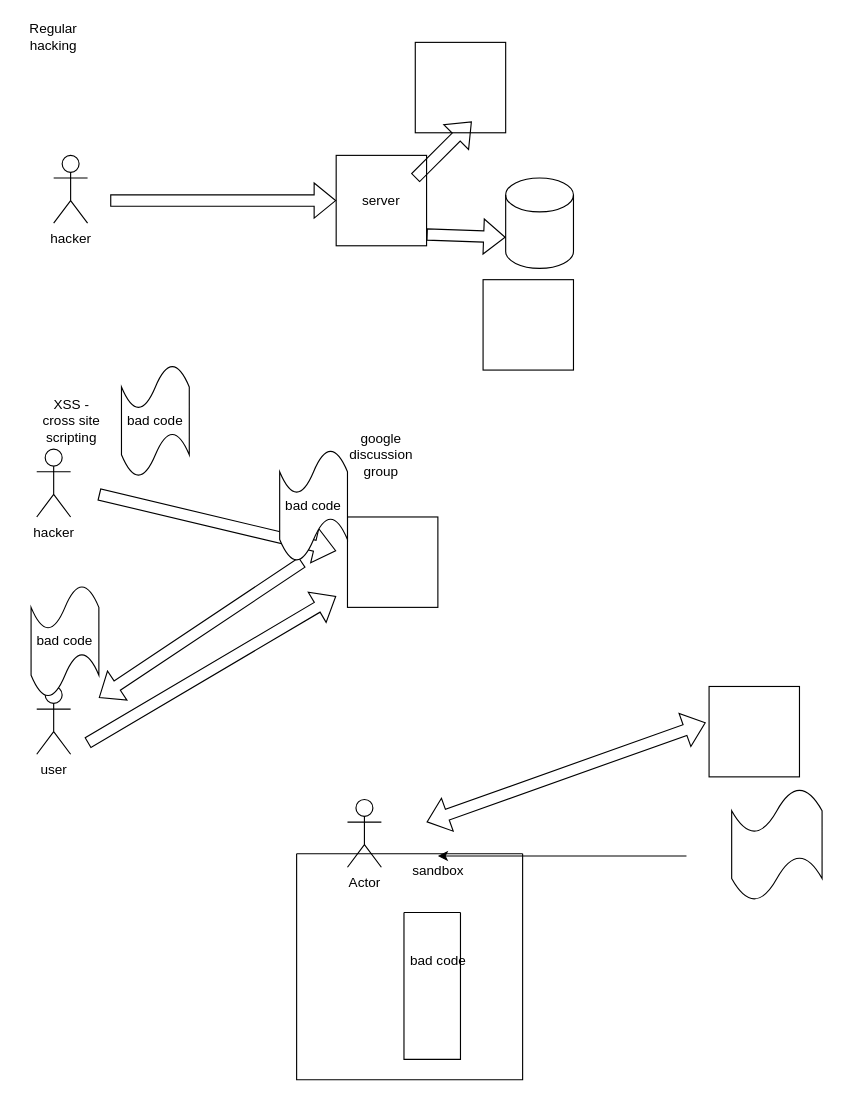
This 842x1099 diagram has some shape labels left out. Here are the shapes that lost their labels. From the top down, the centre of each, then its label:
(392,561): google.com
(776,844): code
(409,966): users machine
